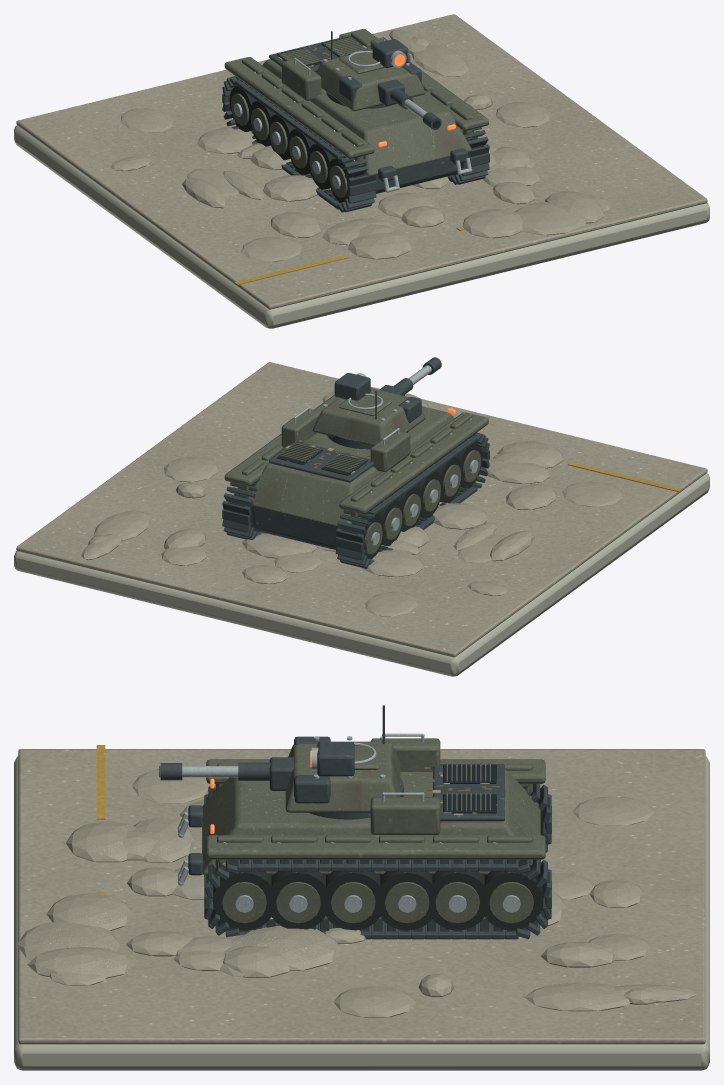
File: legacy-machine.glb
The picture shows the model from 3 angles, top to bottom: view 1: azimuth 30°, elevation 25°; view 2: azimuth 150°, elevation 25°; view 3: azimuth 270°, elevation 25°; orthographic projection. The views are drawn at different scales.
Visible parts, largest first — view 1: 厚灰沉积_DisplaySite.001, 旧军绿漆面_legacy-machine_Quality.001, poi_service_concrete_DisplaySite.001, 旧军绿漆面_Turret.001, 深灰结构钢_TrackLeft.001, 黑橡胶_TrackLeft.001, 深灰结构钢_legacy-machine_Quality.001, 旧军绿漆面_TrackLeft.001, 深灰结构钢_Turret.001, 深灰结构钢_TrackRight.001, 深灰结构钢_Barrel.001, 机械加工不锈钢_TrackLeft.001 (+1 smaller); view 2: 厚灰沉积_DisplaySite.001, 旧军绿漆面_legacy-machine_Quality.001, poi_service_concrete_DisplaySite.001, 旧军绿漆面_Turret.001, 深灰结构钢_TrackLeft.001, 深灰结构钢_legacy-machine_Quality.001, 黑橡胶_TrackLeft.001, 旧军绿漆面_TrackLeft.001, 深灰结构钢_Turret.001, 深灰结构钢_TrackRight.001, 机械加工不锈钢_TrackLeft.001, 深灰结构钢_Barrel.001 (+1 smaller); view 3: 厚灰沉积_DisplaySite.001, 旧军绿漆面_legacy-machine_Quality.001, poi_service_concrete_DisplaySite.001, 黑橡胶_TrackRight.001, 旧军绿漆面_TrackRight.001, 深灰结构钢_TrackRight.001, 旧军绿漆面_Turret.001, 深灰结构钢_Turret.001, 深灰结构钢_legacy-machine_Quality.001, 凹槽与绝缘件_legacy-machine_Quality.001, 深灰结构钢_Barrel.001, 机械加工不锈钢_TrackRight.001 (+4 smaller).
Part boxes in pixels (box(x1,y1,x2,y2)): 厚灰沉积_DisplaySite.001: box(16, 14, 707, 309); 旧军绿漆面_legacy-machine_Quality.001: box(224, 29, 488, 176); poi_service_concrete_DisplaySite.001: box(14, 125, 709, 328); 旧军绿漆面_Turret.001: box(316, 49, 425, 111); 深灰结构钢_TrackLeft.001: box(222, 76, 376, 212); 黑橡胶_TrackLeft.001: box(229, 76, 370, 203); 深灰结构钢_legacy-machine_Quality.001: box(269, 35, 468, 193); 旧军绿漆面_TrackLeft.001: box(231, 93, 347, 197); 深灰结构钢_Turret.001: box(326, 31, 421, 108); 深灰结构钢_TrackRight.001: box(447, 127, 489, 184); 深灰结构钢_Barrel.001: box(377, 79, 441, 129); 机械加工不锈钢_TrackLeft.001: box(233, 103, 340, 188); 厚灰沉积_DisplaySite.001: box(16, 362, 707, 657); 旧军绿漆面_legacy-machine_Quality.001: box(224, 395, 488, 527); poi_service_concrete_DisplaySite.001: box(14, 473, 709, 676); 旧军绿漆面_Turret.001: box(312, 388, 425, 446); 深灰结构钢_TrackLeft.001: box(335, 432, 489, 568); 深灰结构钢_legacy-machine_Quality.001: box(251, 442, 373, 549); 黑橡胶_TrackLeft.001: box(341, 433, 482, 559); 旧军绿漆面_TrackLeft.001: box(364, 450, 480, 554); 深灰结构钢_Turret.001: box(327, 373, 421, 449); 深灰结构钢_TrackRight.001: box(222, 482, 265, 539); 机械加工不锈钢_TrackLeft.001: box(371, 460, 478, 545); 深灰结构钢_Barrel.001: box(379, 357, 441, 395); 厚灰沉积_DisplaySite.001: box(16, 749, 705, 1044); 旧军绿漆面_legacy-machine_Quality.001: box(202, 738, 545, 874); poi_service_concrete_DisplaySite.001: box(14, 756, 709, 1070); 黑橡胶_TrackRight.001: box(206, 859, 549, 931); 旧军绿漆面_TrackRight.001: box(222, 882, 533, 923); 深灰结构钢_TrackRight.001: box(204, 859, 551, 939); 旧军绿漆面_Turret.001: box(285, 741, 400, 812); 深灰结构钢_Turret.001: box(294, 705, 403, 819); 深灰结构钢_legacy-machine_Quality.001: box(188, 764, 504, 875); 凹槽与绝缘件_legacy-machine_Quality.001: box(443, 764, 496, 813); 深灰结构钢_Barrel.001: box(160, 757, 293, 790); 机械加工不锈钢_TrackRight.001: box(235, 895, 520, 912).
Bounding box in the file's own units: 8 × 2.62 × 8.
Materials: 11 (8 with a texture image).
